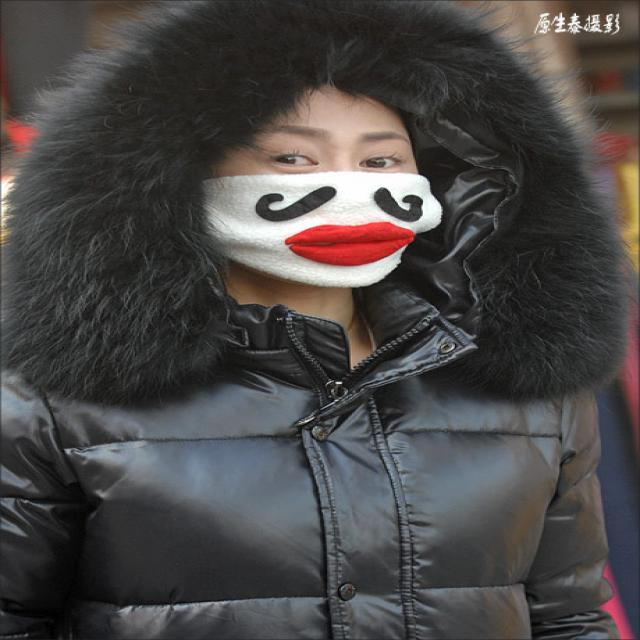mask: (209, 100, 442, 288)
